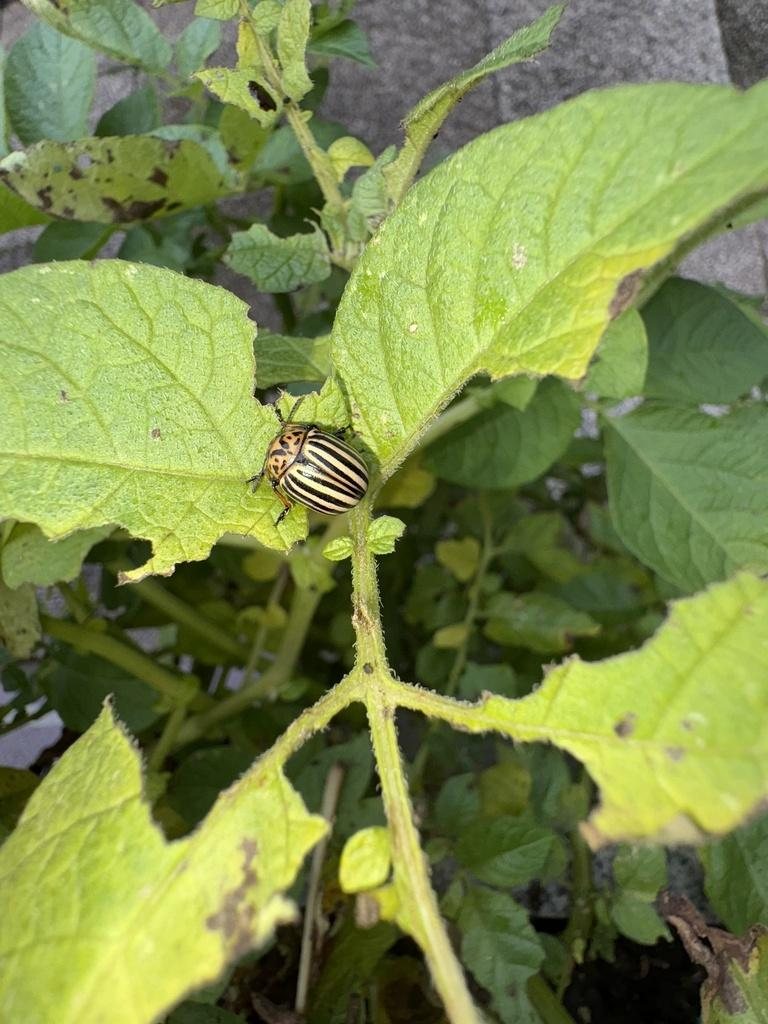potato_beetle: (235, 372, 402, 557)
